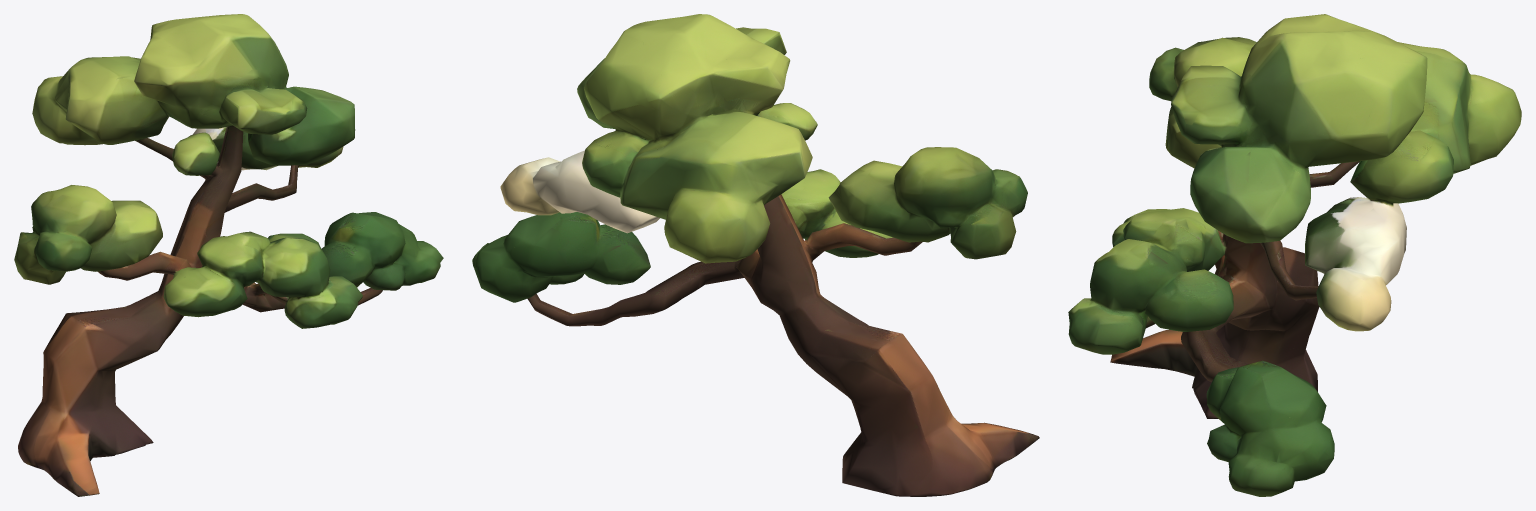
The model's file is Meshy_AI_Polygonal_Tree_on_a_H_0313135857_texture.fbx.
3 views of the same model, side by side, from view 1: azimuth 30°, elevation 25°; view 2: azimuth 150°, elevation 25°; view 3: azimuth 270°, elevation 25° (orthographic). The views are drawn at different scales.
Visible parts, largest first — view 1: Mesh_0; view 2: Mesh_0; view 3: Mesh_0.
Part boxes in pixels (<box>): Mesh_0: <box>14,14,443,496</box>; Mesh_0: <box>472,14,1039,496</box>; Mesh_0: <box>1068,14,1521,496</box>.
Size of the model in its own units: 191 by 150 by 138.
1 material, 1 textured.
